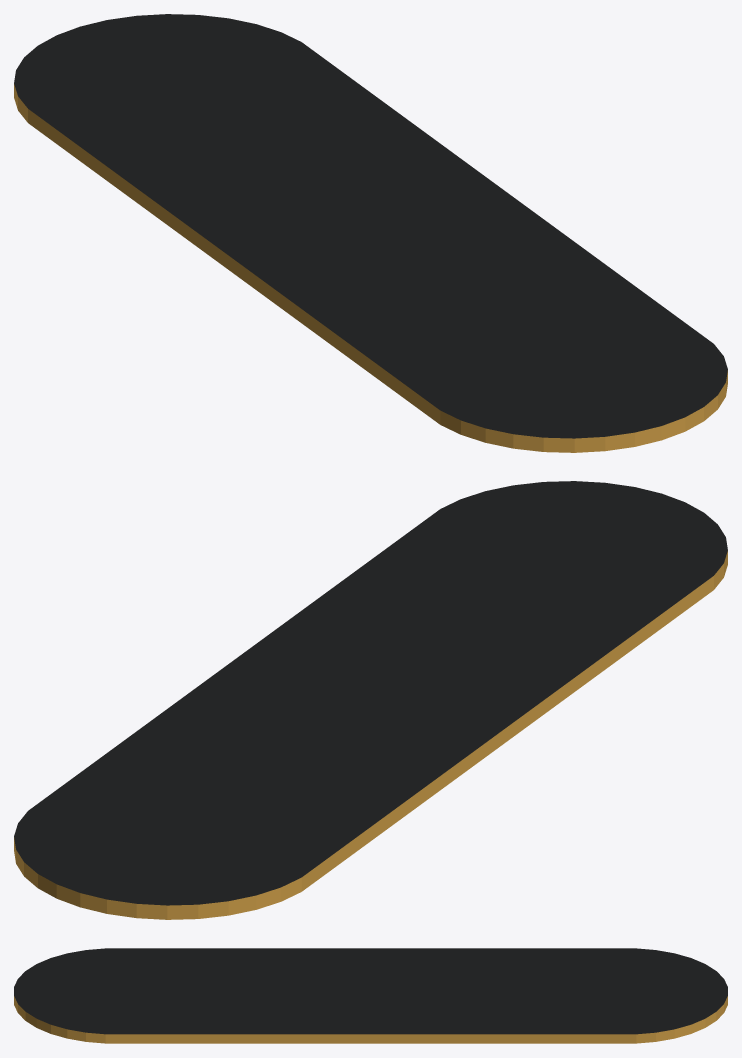
The model's file is board_only.fbx.
3 views of the same model, one above another, from view 1: azimuth 30°, elevation 25°; view 2: azimuth 150°, elevation 25°; view 3: azimuth 270°, elevation 25° (orthographic). The views are drawn at different scales.
Visible parts, largest first — view 1: Board; view 2: Board; view 3: Board.
Boxes of the visible parts, left/top/right/bottom form: Board: left=14, top=14, right=727, bottom=452; Board: left=14, top=481, right=727, bottom=919; Board: left=14, top=948, right=727, bottom=1043.
Bounding box in the file's own units: 19.9 × 1 × 69.9.
